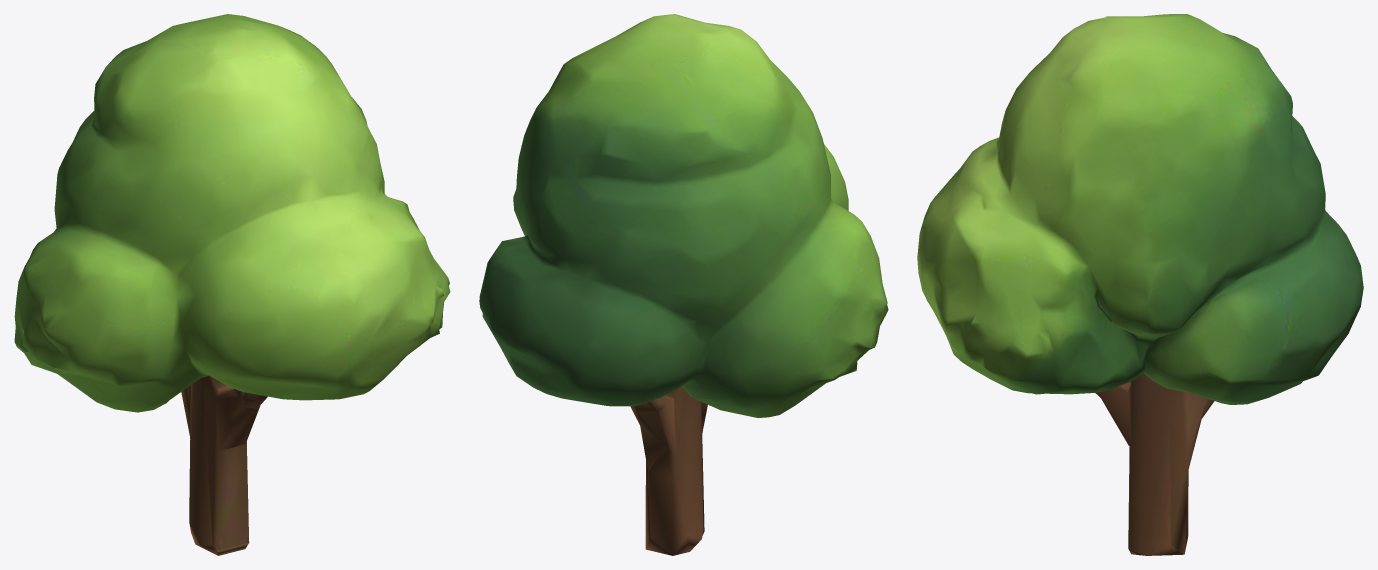
File: tree_bushy.glb
3 views of the same model, side by side, from view 1: azimuth 30°, elevation 25°; view 2: azimuth 150°, elevation 25°; view 3: azimuth 270°, elevation 25° (orthographic). The views are drawn at different scales.
Visible parts, largest first — view 1: tripo_node_01a21d0b-93ba-7a0a-bc0a-7fc536f1d418; view 2: tripo_node_01a21d0b-93ba-7a0a-bc0a-7fc536f1d418; view 3: tripo_node_01a21d0b-93ba-7a0a-bc0a-7fc536f1d418.
Boxes of the visible parts, <box> form: tripo_node_01a21d0b-93ba-7a0a-bc0a-7fc536f1d418: <box>14,14,450,555</box>; tripo_node_01a21d0b-93ba-7a0a-bc0a-7fc536f1d418: <box>479,14,888,555</box>; tripo_node_01a21d0b-93ba-7a0a-bc0a-7fc536f1d418: <box>917,14,1363,555</box>.
Size of the model in its own units: 4.74 by 6.4 by 4.95.
1 material, 1 textured.
